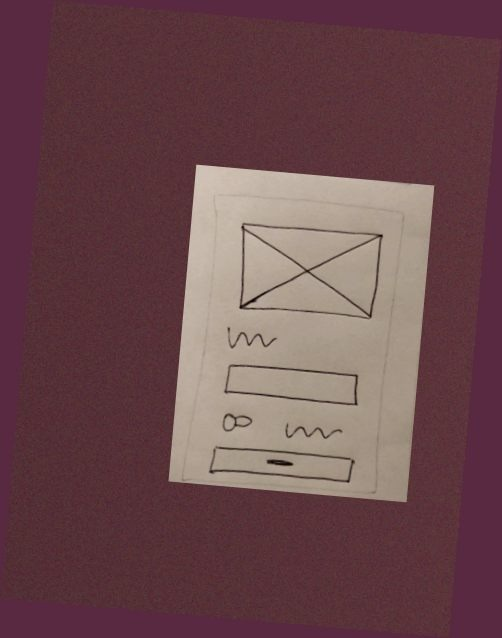button: (205, 441, 358, 490)
image: (229, 217, 387, 330)
switch: (218, 410, 256, 438)
text: (276, 417, 344, 449), (222, 325, 282, 360)
text_input: (219, 359, 364, 413)
